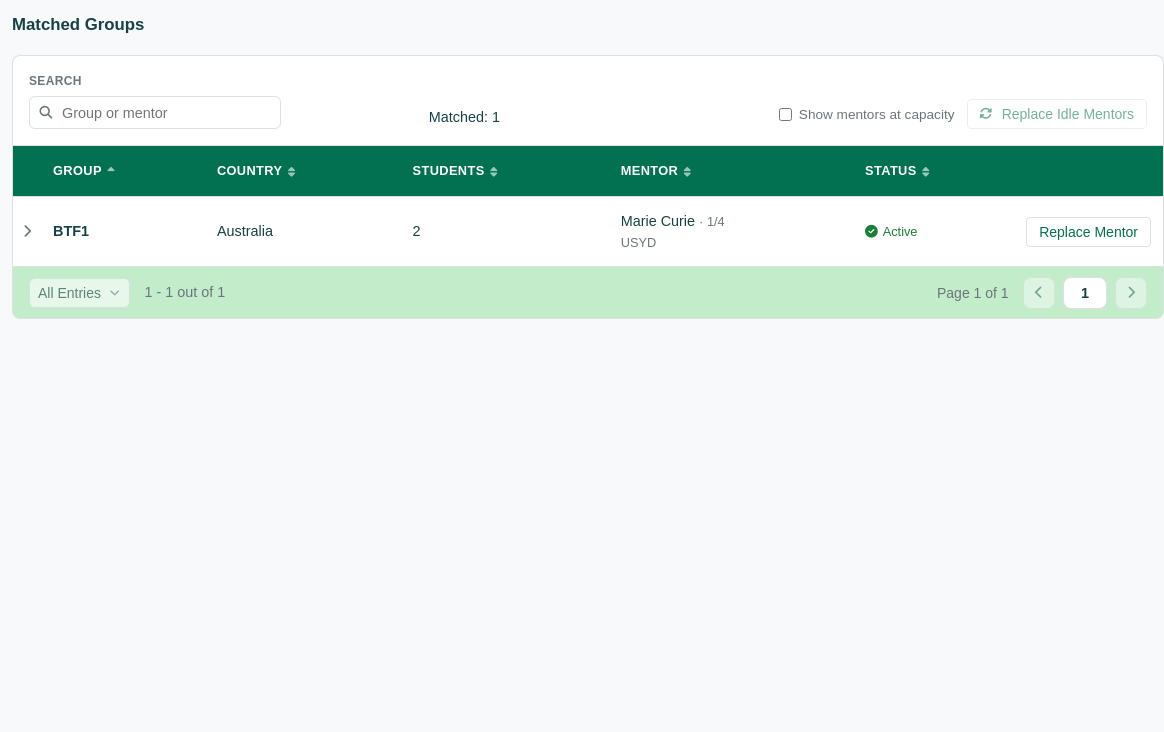
Scenario: MatchedGroupsPanel › expands a row to show its students
Expected: the text "Never signed in" is not shown
Click the row that starts with "BTF1" at (71, 231), box [13,196,1163,266]
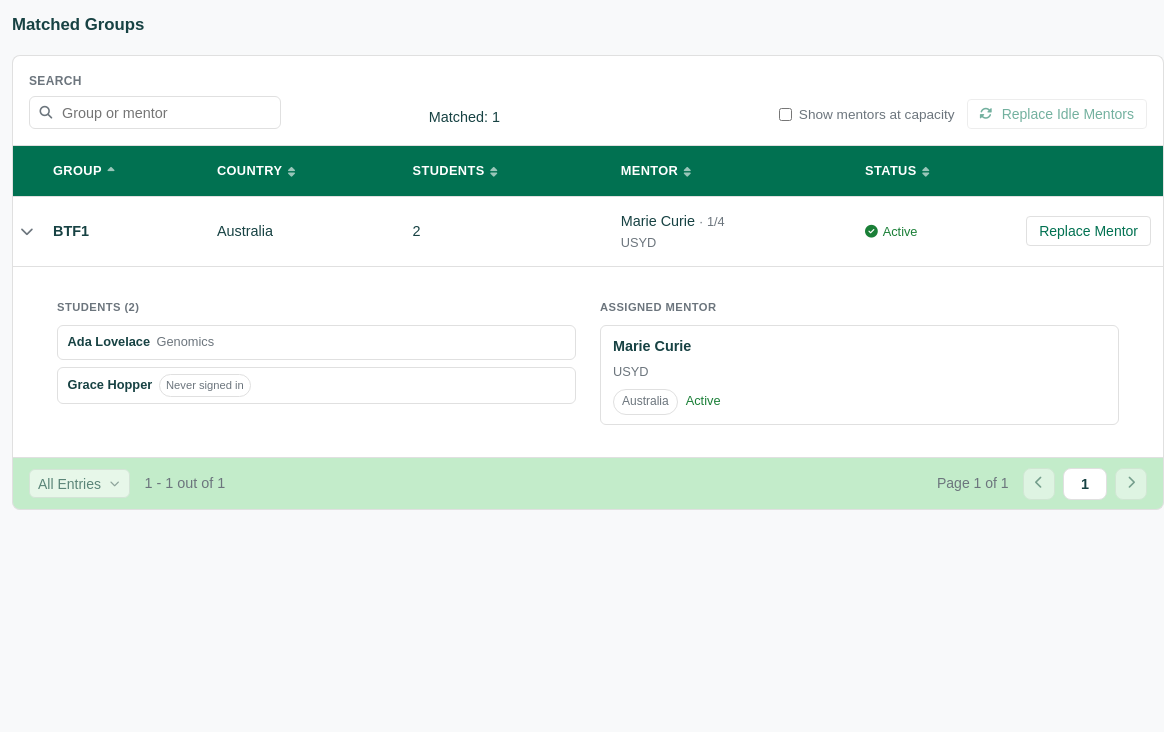
Expected: the text "Ada Lovelace" is shown, [68,332,150,353]
Expected: the text "Grace Hopper" is shown, [68,375,152,396]
Expected: the text "Never signed in" is shown, [159,374,251,397]
